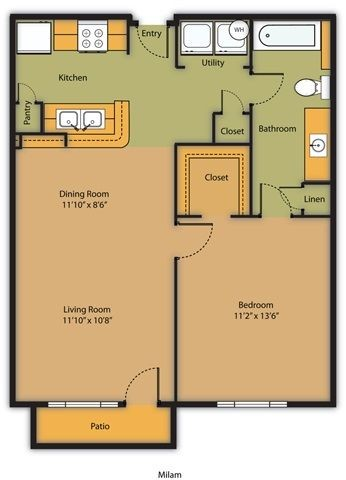door: (124, 366, 160, 403), (136, 22, 171, 59), (259, 182, 294, 217), (179, 227, 211, 261), (253, 81, 286, 104), (220, 87, 244, 114), (17, 82, 38, 101)
room: (182, 225, 332, 403), (15, 261, 175, 401), (10, 149, 175, 259), (17, 22, 136, 142), (259, 22, 329, 180)
wall: (329, 14, 337, 404), (8, 11, 15, 407), (175, 12, 338, 21), (34, 441, 178, 450), (174, 259, 180, 398), (15, 12, 134, 19), (172, 142, 180, 226), (290, 400, 336, 413), (160, 400, 217, 409), (247, 20, 256, 72), (167, 404, 178, 443), (29, 406, 38, 450), (176, 142, 251, 147), (36, 99, 46, 134), (173, 23, 180, 68), (13, 399, 46, 408), (251, 68, 284, 77), (18, 131, 66, 136), (249, 103, 255, 141), (292, 213, 335, 218), (126, 18, 132, 53), (304, 181, 331, 188), (177, 212, 202, 218), (211, 114, 216, 143), (251, 147, 253, 217), (231, 215, 260, 219), (179, 224, 216, 227)
window: (221, 397, 288, 410), (49, 400, 117, 407)
